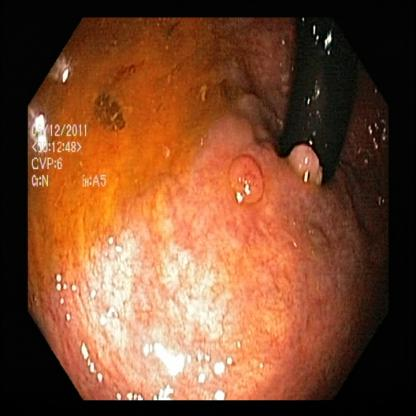Labels: (27, 117, 114, 194)
Polyps: (226, 146, 277, 224), (283, 140, 325, 190)
